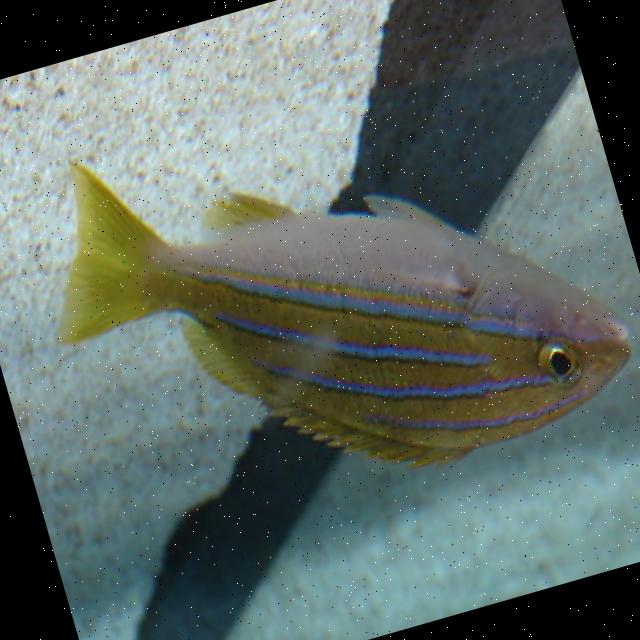ikan: (8, 24, 640, 563)
